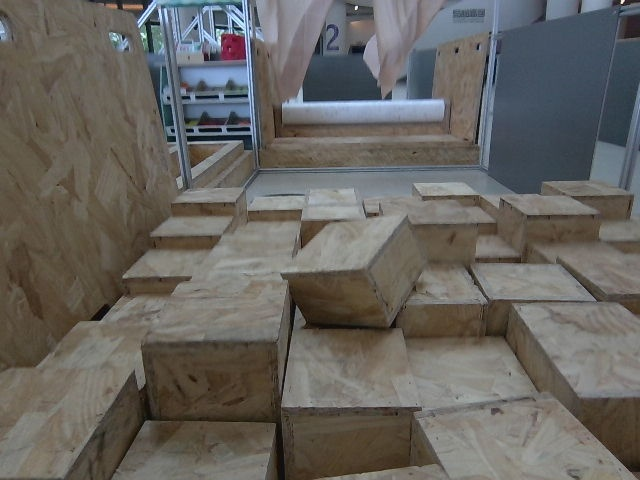curtain: (243, 0, 448, 96)
